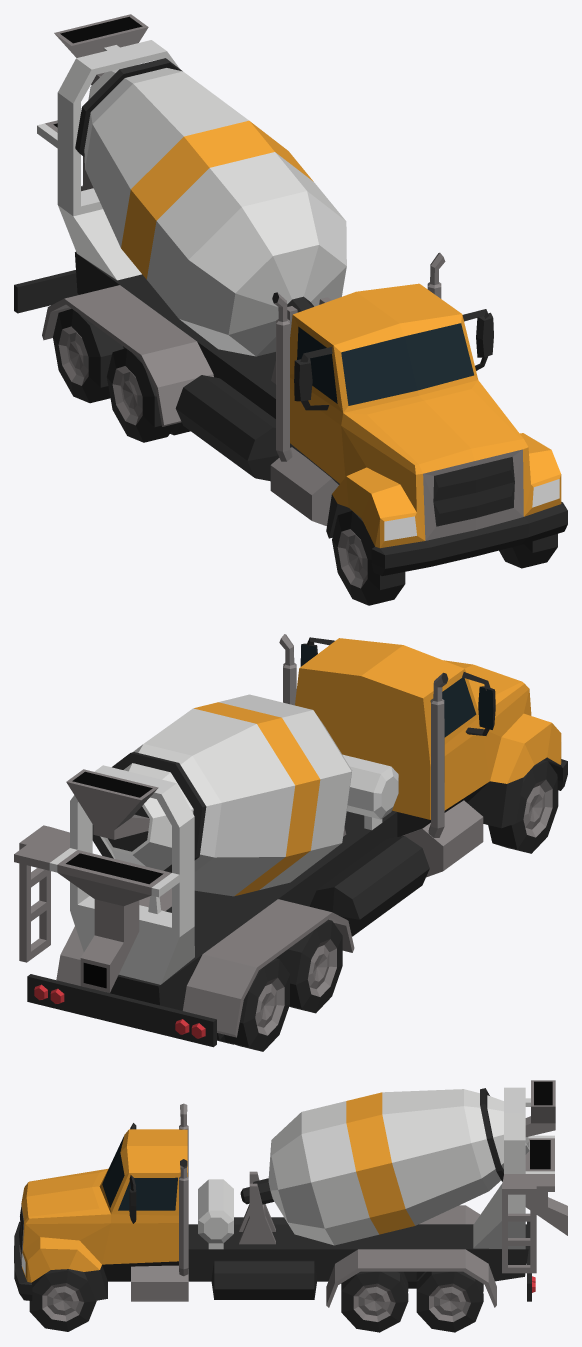
File: car-truck-cement.glb
3 views of the same model, one above another, from view 1: azimuth 30°, elevation 25°; view 2: azimuth 150°, elevation 25°; view 3: azimuth 270°, elevation 25° (orthographic). The views are drawn at different scales.
Parts seen in each view (by area): view 1: car-truck-cement-base, car-truck-cement-mixer, car-truck-cement-wheel_BR2, car-truck-cement-wheel_BR1, car-truck-cement-wheel_FR, car-truck-cement-wheel_FL; view 2: car-truck-cement-base, car-truck-cement-mixer, car-truck-cement-wheel_BR1, car-truck-cement-wheel_BR2, car-truck-cement-wheel_FR; view 3: car-truck-cement-base, car-truck-cement-mixer, car-truck-cement-wheel_BL2, car-truck-cement-wheel_BL1, car-truck-cement-wheel_FL.
Part boxes in pixels (bbox=[...]): car-truck-cement-base: bbox=[14, 14, 567, 575]; car-truck-cement-mixer: bbox=[75, 58, 346, 356]; car-truck-cement-wheel_BR2: bbox=[53, 308, 125, 403]; car-truck-cement-wheel_BR1: bbox=[107, 348, 190, 442]; car-truck-cement-wheel_FR: bbox=[332, 511, 405, 605]; car-truck-cement-wheel_FL: bbox=[499, 533, 557, 568]; car-truck-cement-base: bbox=[14, 634, 567, 1047]; car-truck-cement-mixer: bbox=[92, 694, 352, 896]; car-truck-cement-wheel_BR1: bbox=[276, 919, 342, 1013]; car-truck-cement-wheel_BR2: bbox=[217, 958, 289, 1051]; car-truck-cement-wheel_FR: bbox=[488, 760, 558, 853]; car-truck-cement-base: bbox=[14, 1080, 567, 1307]; car-truck-cement-mixer: bbox=[240, 1088, 529, 1245]; car-truck-cement-wheel_BL2: bbox=[416, 1271, 483, 1332]; car-truck-cement-wheel_BL1: bbox=[341, 1271, 408, 1332]; car-truck-cement-wheel_FL: bbox=[29, 1269, 96, 1331].
Bounding box in the file's own units: 2.59 × 3.7 × 8.93.
1 material, 1 textured.
